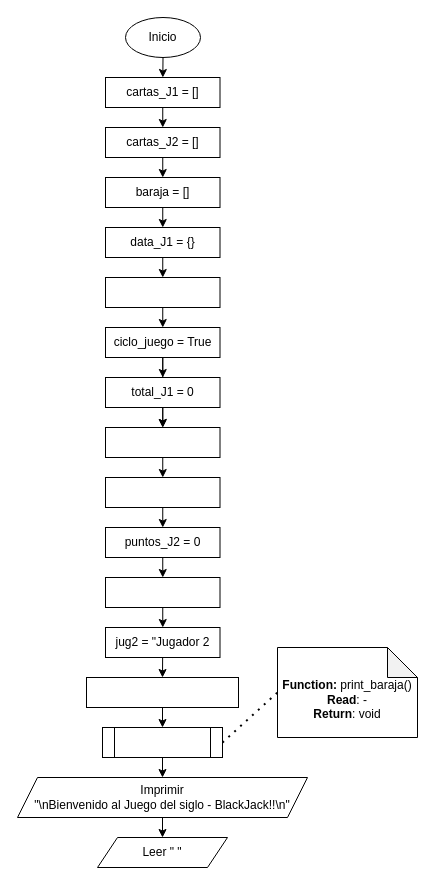
This 435x885 diagram has some shape labels left out. Here are the shapes that lost their labels. From the top down, the centre of each, then its label:
point 162,292: data_J2 = {}
point 162,442: total_J2 = 0
point 162,492: puntos_J1 = 0
point 162,592: jug1 = "Jugador 1"
point 162,692: baraja = crear_baraja ()
point 162,742: print_baraja ()
